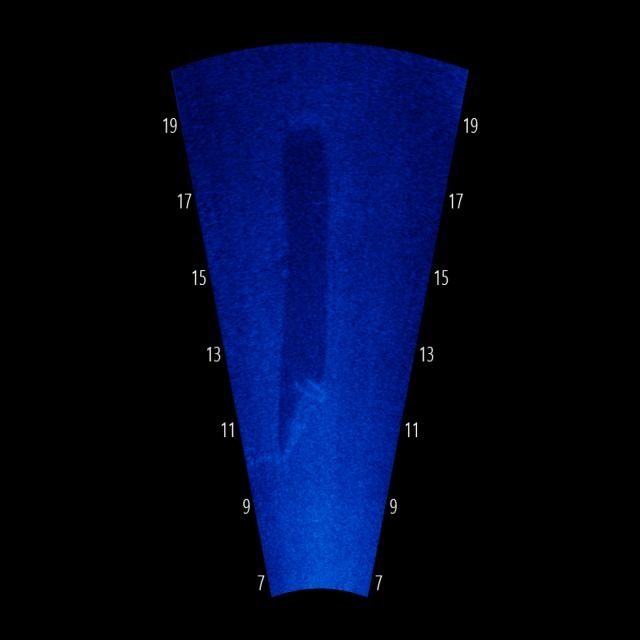triangle: (264, 360, 329, 466)
